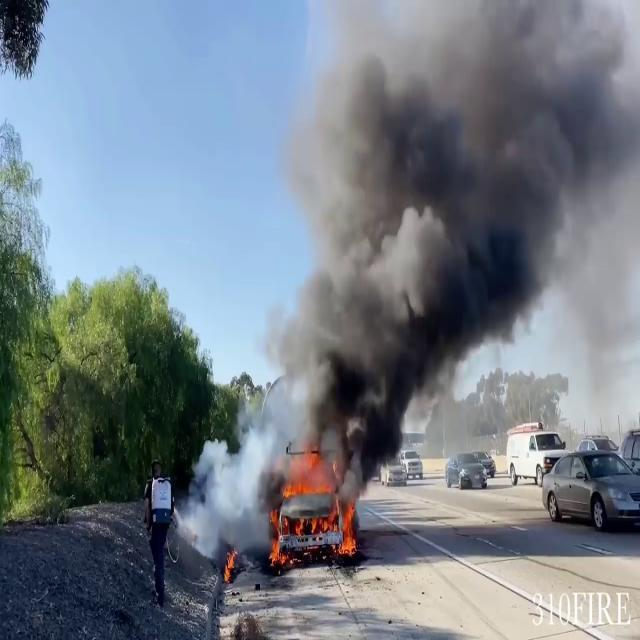Fire: (266, 462, 358, 564)
Smoke: (282, 0, 640, 478), (180, 408, 294, 569)
